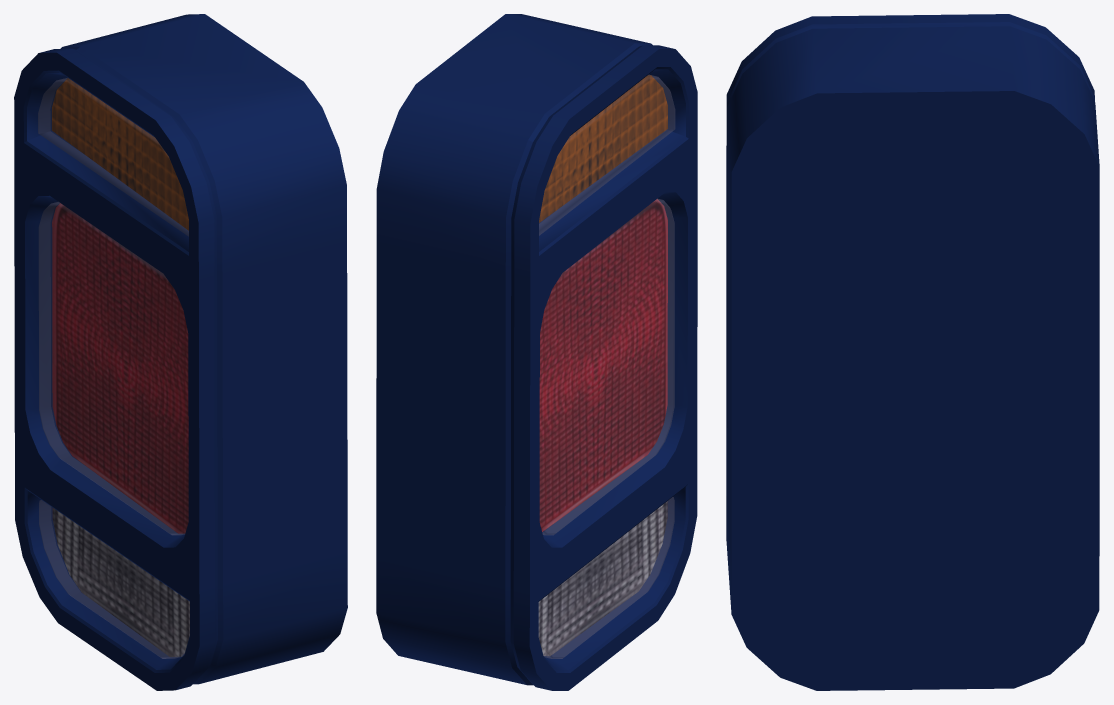
3 views of the same model, side by side, from view 1: azimuth 30°, elevation 25°; view 2: azimuth 150°, elevation 25°; view 3: azimuth 270°, elevation 25° (orthographic). The views are drawn at different scales.
Visible parts, largest first — view 1: J715_8A_541C_R_1_DaS_J715_8A_541C_R, J715_8A_541C_R_J715_8A_541C_R_3_N, J715_8A_541C_R_J715_8A_541C_R_5_DTaSI, J715_8A_541C_R_1_DaS_J715_8A_541C_R_E, J715_8A_541C_R_J715_8A_541C_R_2_DTaSI, J715_8A_541C_R_J715_8A_541C_R_4_DTaSI; view 2: J715_8A_541C_R_1_DaS_J715_8A_541C_R, J715_8A_541C_R_J715_8A_541C_R_3_N, J715_8A_541C_R_J715_8A_541C_R_5_DTaSI, J715_8A_541C_R_1_DaS_J715_8A_541C_R_E, J715_8A_541C_R_J715_8A_541C_R_2_DTaSI, J715_8A_541C_R_J715_8A_541C_R_4_DTaSI; view 3: J715_8A_541C_R_1_DaS_J715_8A_541C_R_E, J715_8A_541C_R_1_DaS_J715_8A_541C_R.
Part boxes in pixels (left/top/right/bottom): J715_8A_541C_R_1_DaS_J715_8A_541C_R: left=14, top=14, right=347, bottom=690; J715_8A_541C_R_J715_8A_541C_R_3_N: left=52, top=78, right=189, bottom=656; J715_8A_541C_R_J715_8A_541C_R_5_DTaSI: left=39, top=207, right=187, bottom=532; J715_8A_541C_R_1_DaS_J715_8A_541C_R_E: left=23, top=46, right=223, bottom=689; J715_8A_541C_R_J715_8A_541C_R_2_DTaSI: left=39, top=202, right=189, bottom=658; J715_8A_541C_R_J715_8A_541C_R_4_DTaSI: left=38, top=78, right=188, bottom=236; J715_8A_541C_R_1_DaS_J715_8A_541C_R: left=376, top=14, right=697, bottom=690; J715_8A_541C_R_J715_8A_541C_R_3_N: left=538, top=75, right=667, bottom=655; J715_8A_541C_R_J715_8A_541C_R_5_DTaSI: left=540, top=204, right=674, bottom=532; J715_8A_541C_R_1_DaS_J715_8A_541C_R_E: left=505, top=43, right=688, bottom=690; J715_8A_541C_R_J715_8A_541C_R_2_DTaSI: left=539, top=198, right=674, bottom=658; J715_8A_541C_R_J715_8A_541C_R_4_DTaSI: left=539, top=74, right=675, bottom=235; J715_8A_541C_R_1_DaS_J715_8A_541C_R_E: left=726, top=14, right=1099, bottom=690; J715_8A_541C_R_1_DaS_J715_8A_541C_R: left=726, top=22, right=1099, bottom=614.
Size of the model in its own units: 9.11 by 31 by 17.58.
